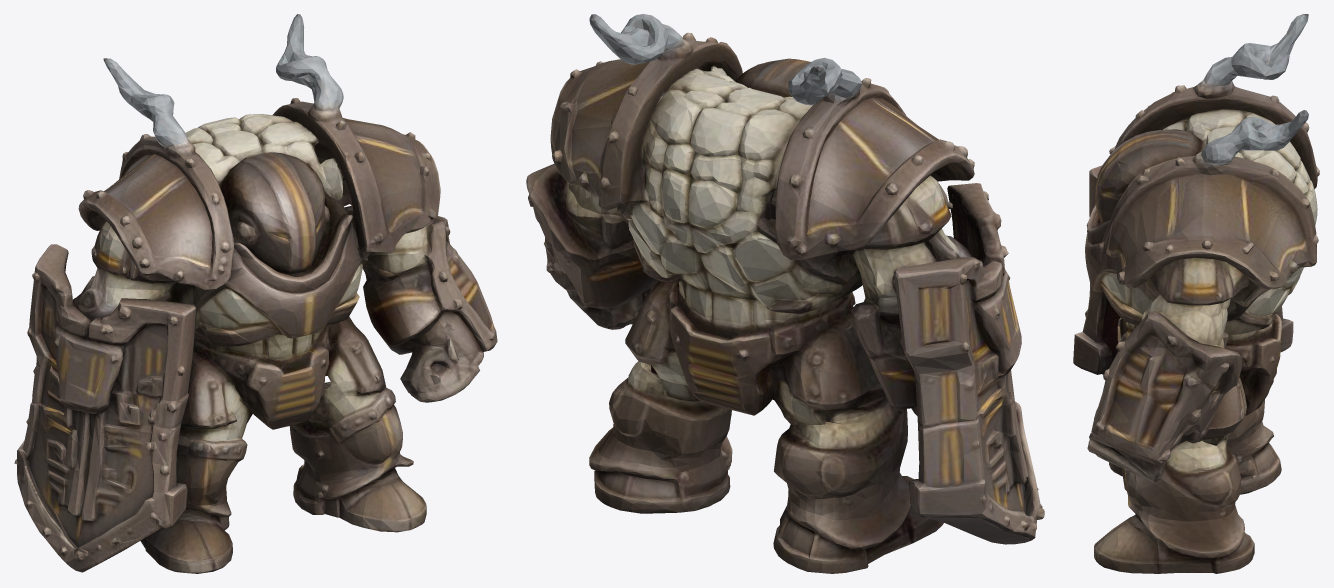
Rendered from mentorConstructA.glb.
The picture shows the model from 3 angles, left to right: view 1: azimuth 30°, elevation 25°; view 2: azimuth 150°, elevation 25°; view 3: azimuth 270°, elevation 25°; orthographic projection. The views are drawn at different scales.
Visible parts, largest first — view 1: world; view 2: world; view 3: world.
Boxes of the visible parts, left/top/right/bottom form: world: left=14, top=14, right=497, bottom=573; world: left=526, top=14, right=1044, bottom=573; world: left=1073, top=14, right=1319, bottom=573.
Bounding box in the file's own units: 0.9979 × 0.9973 × 0.498.
1 material, 1 textured.
